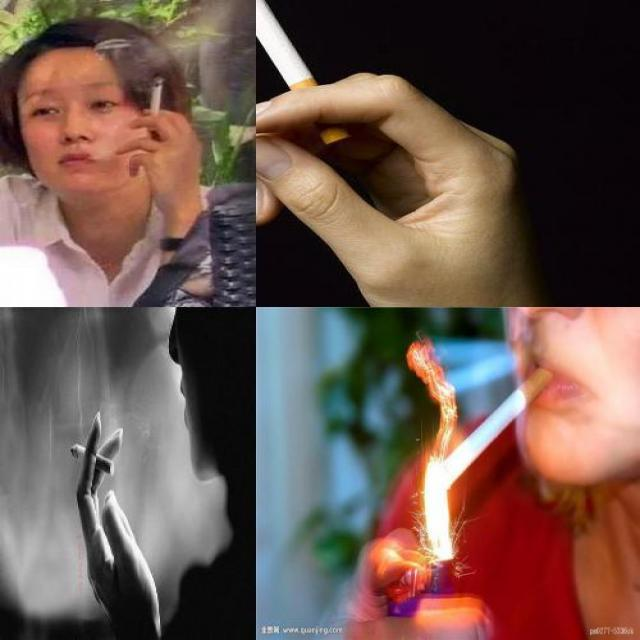cigarette: (255, 0, 354, 149), (448, 366, 552, 478), (70, 443, 114, 478), (148, 74, 164, 132)
